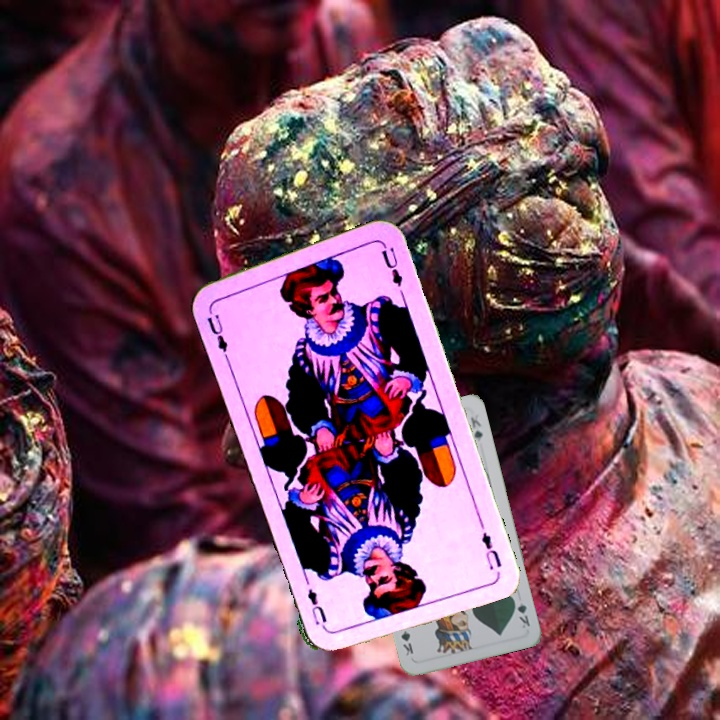EU: (203, 298, 231, 359), (477, 528, 504, 573)
GK: (509, 593, 533, 631)
